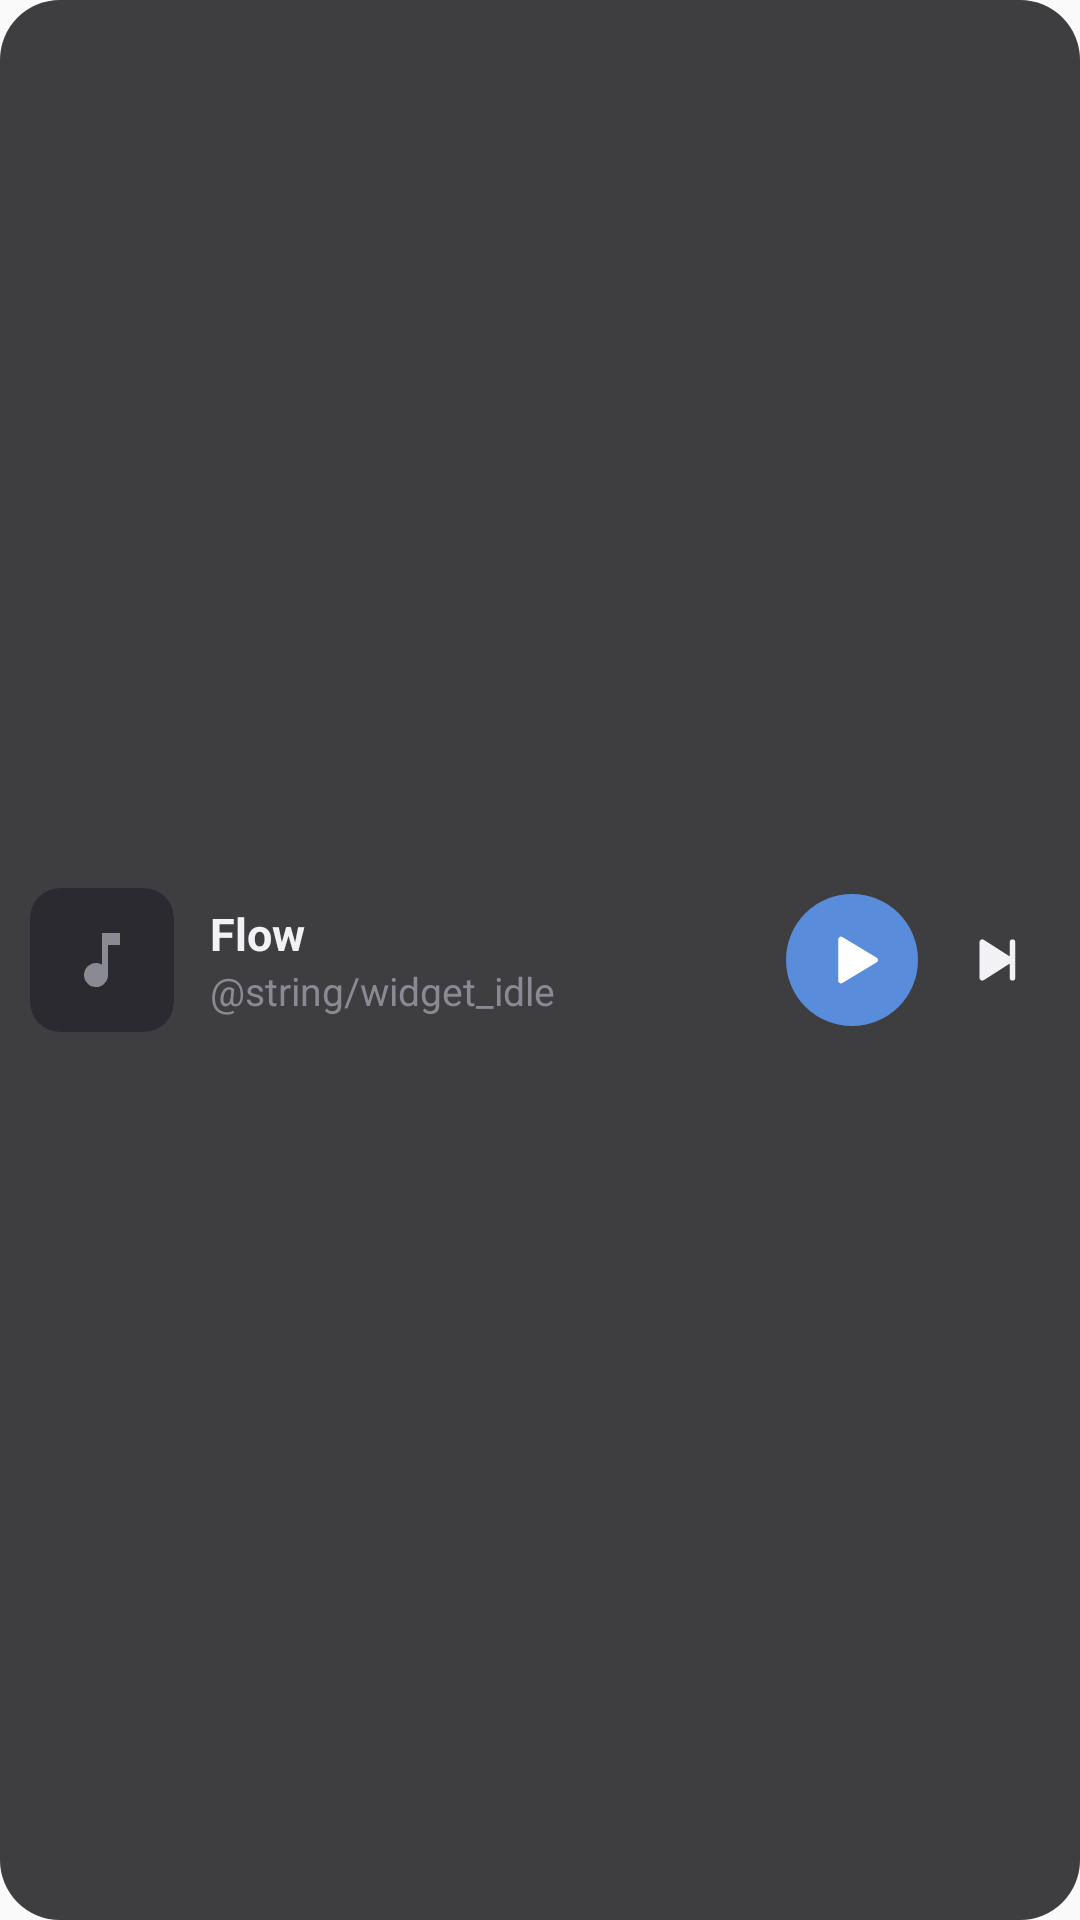

Named icons in this screenshot (1080px x 1920px) and their bounding boxes, (x1, y1, x2, y2):
Play: (786, 894, 918, 1026)
Weiter: (979, 939, 1016, 981)
